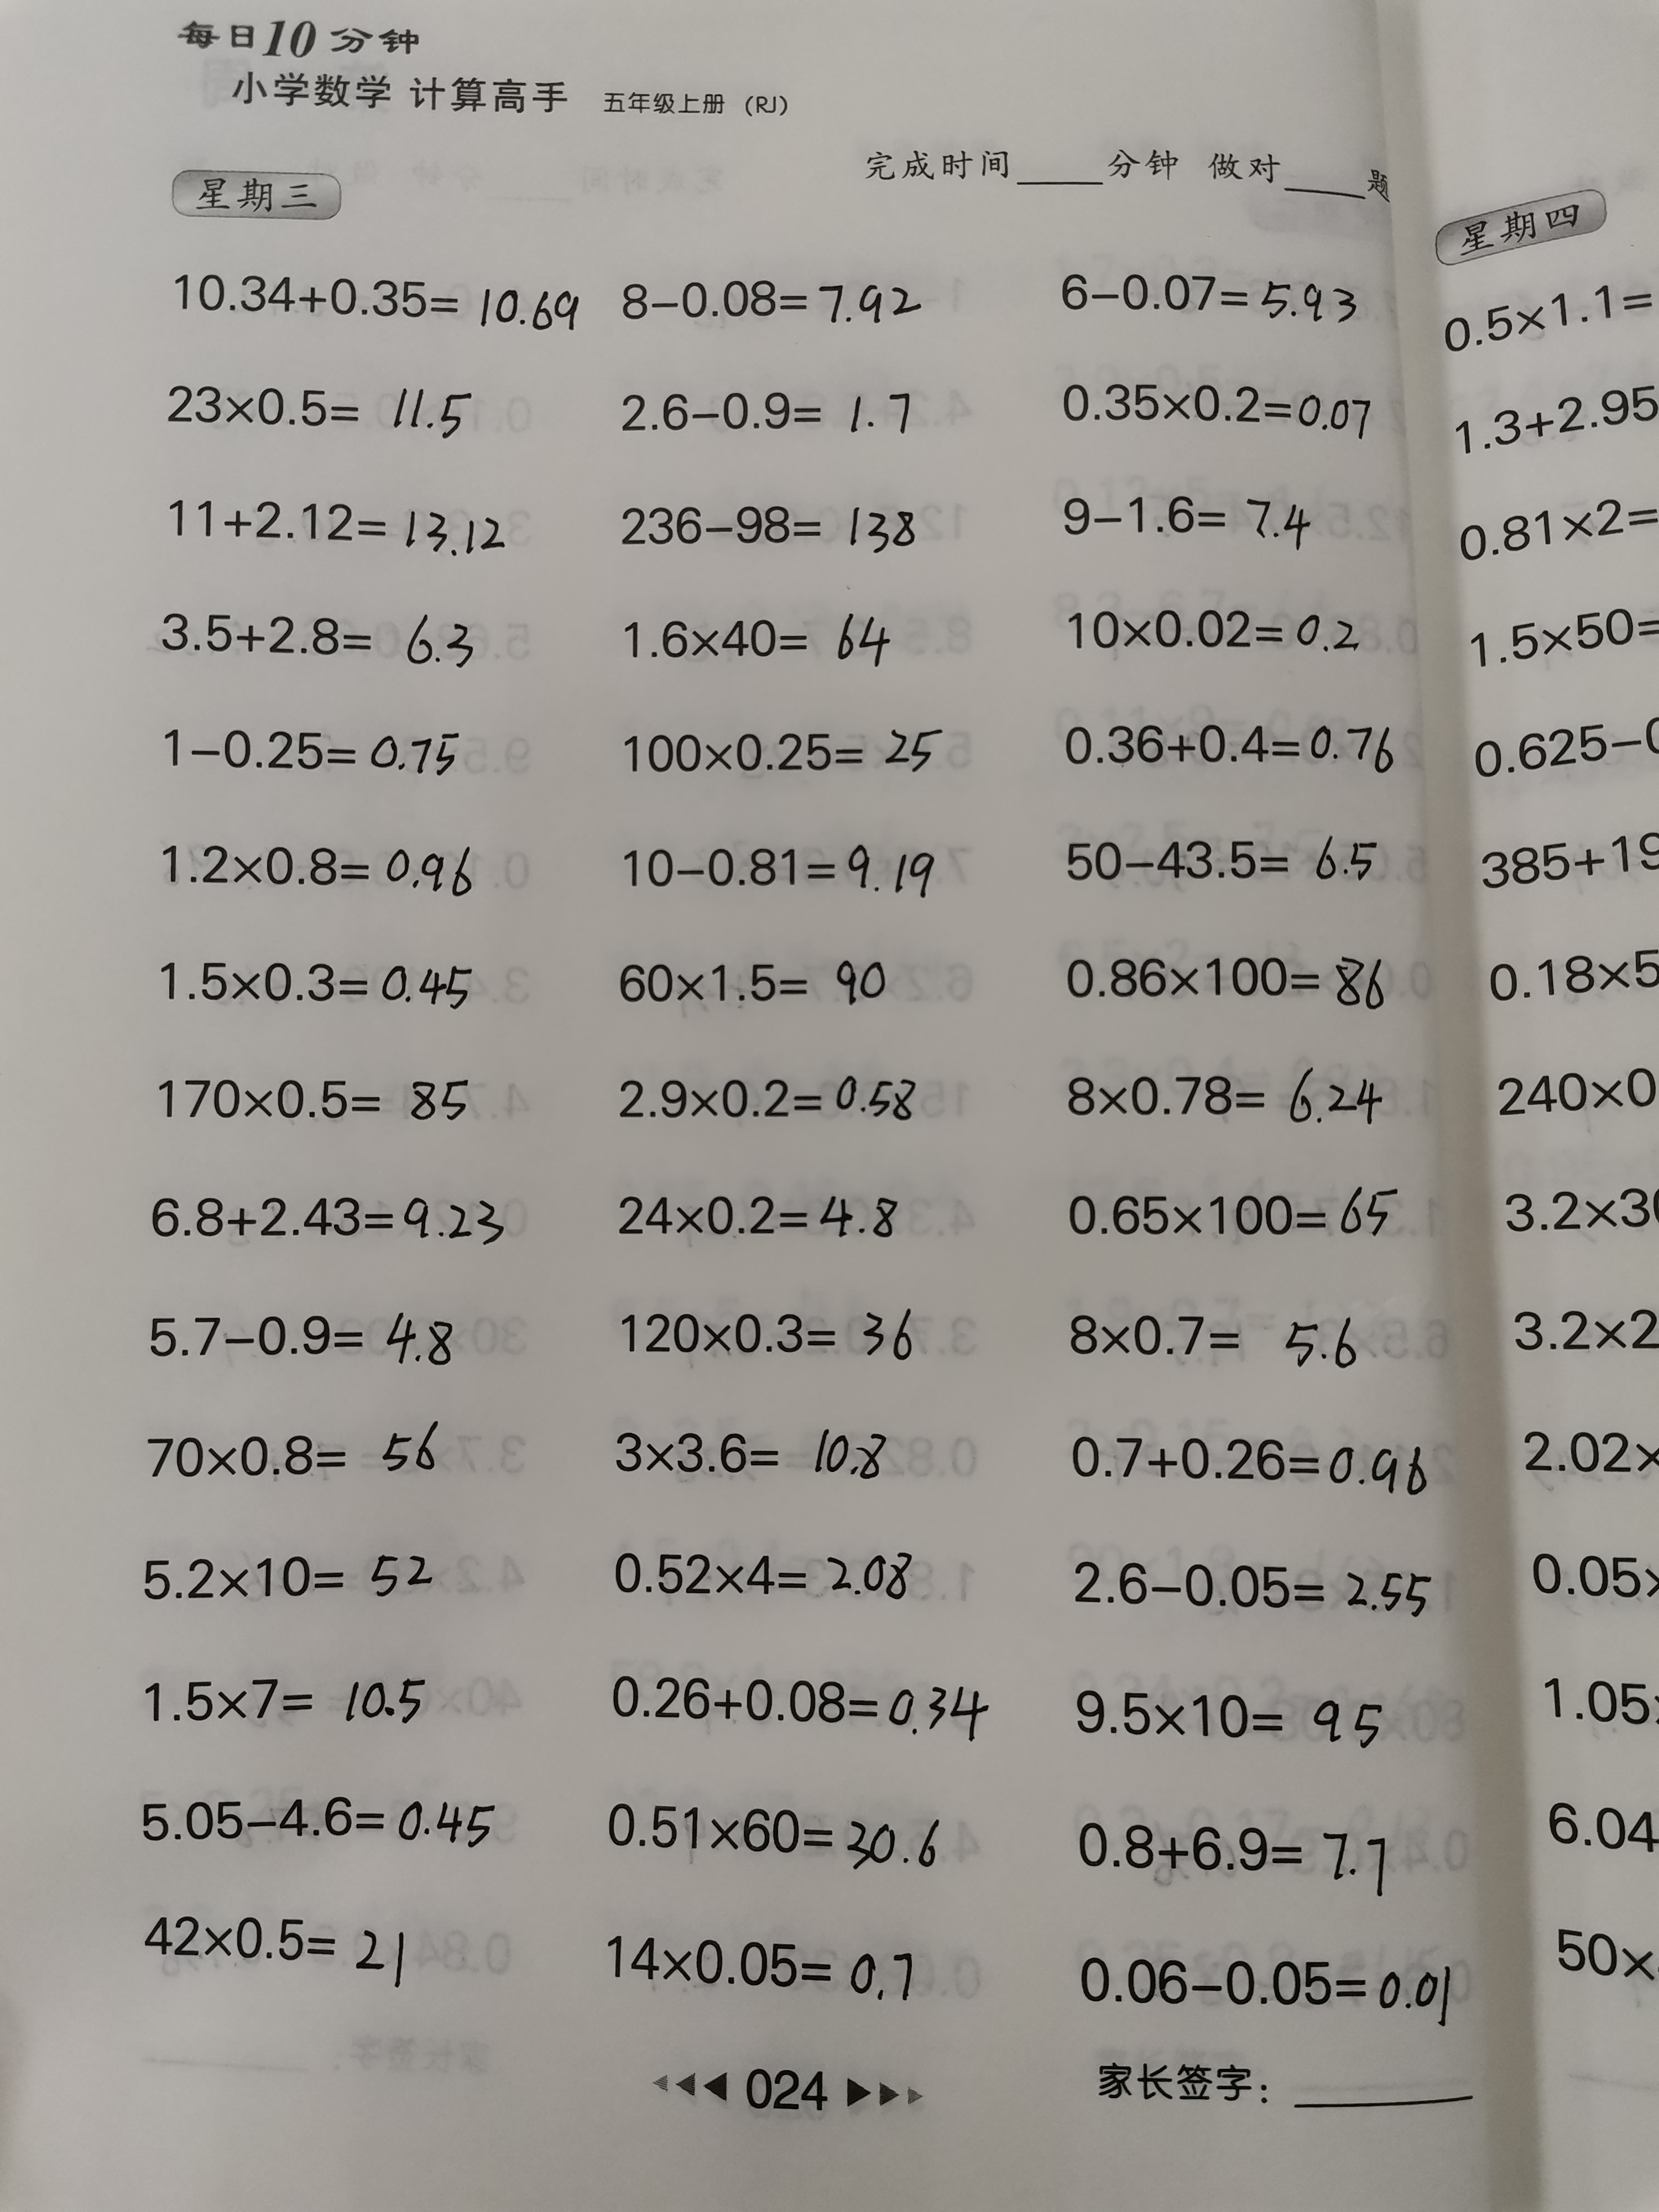equation: (580, 1646, 1007, 1756), (1061, 1935, 1474, 2048), (1047, 1799, 1424, 1914), (1046, 1540, 1460, 1634), (131, 1167, 523, 1266), (580, 1914, 939, 2019), (1047, 1416, 1455, 1507), (584, 1778, 965, 1874), (110, 1775, 505, 1864), (160, 263, 589, 345), (1054, 1670, 1415, 1764), (110, 1299, 484, 1388), (152, 484, 532, 570), (1032, 815, 1401, 902), (113, 1646, 453, 1740), (598, 484, 957, 573), (1046, 702, 1415, 787), (117, 1902, 437, 2000), (124, 1404, 472, 1493), (132, 1059, 504, 1139), (138, 937, 486, 1021), (589, 1411, 929, 1496), (1047, 1172, 1415, 1251), (1046, 951, 1405, 1031), (141, 597, 495, 678), (1046, 371, 1391, 453), (1056, 1289, 1380, 1374), (603, 1534, 951, 1613), (599, 1289, 932, 1371), (605, 1054, 943, 1134), (122, 1534, 453, 1615), (141, 824, 491, 899), (1040, 258, 1366, 338), (150, 371, 490, 446), (608, 721, 953, 794), (145, 711, 472, 787), (1054, 589, 1380, 664), (605, 834, 951, 904), (603, 1181, 918, 1256), (1046, 1068, 1396, 1134), (622, 265, 934, 338), (608, 599, 899, 678), (613, 937, 904, 1012), (1046, 486, 1335, 556), (612, 376, 929, 437)
